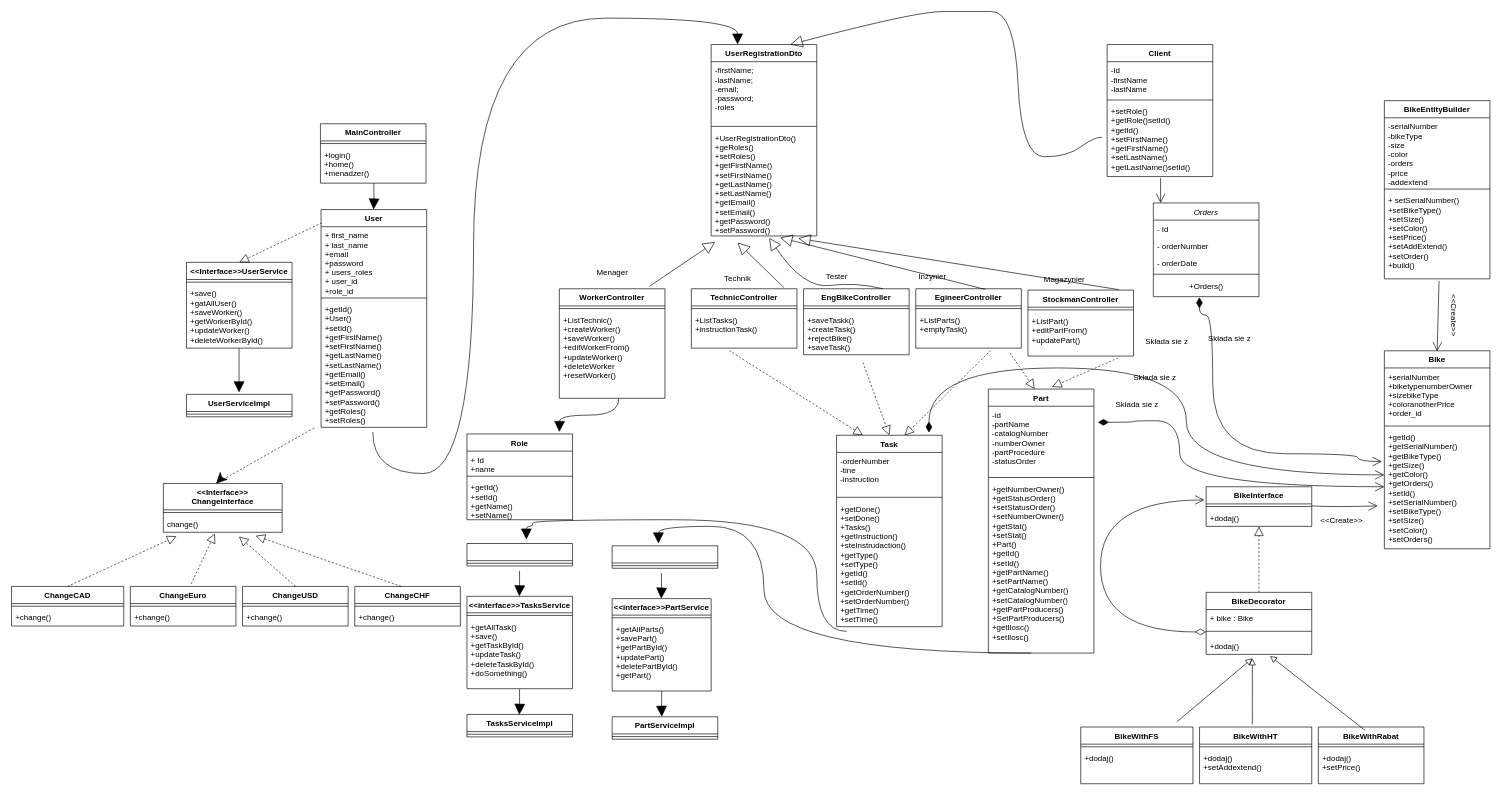
The diagram is 1502 pixels wide and 797 high, and some of its shapes have lost their labels. Each missing label, with the centre of its shape:
PartRepository: [664,556]
TaskRepo: [519,554]
